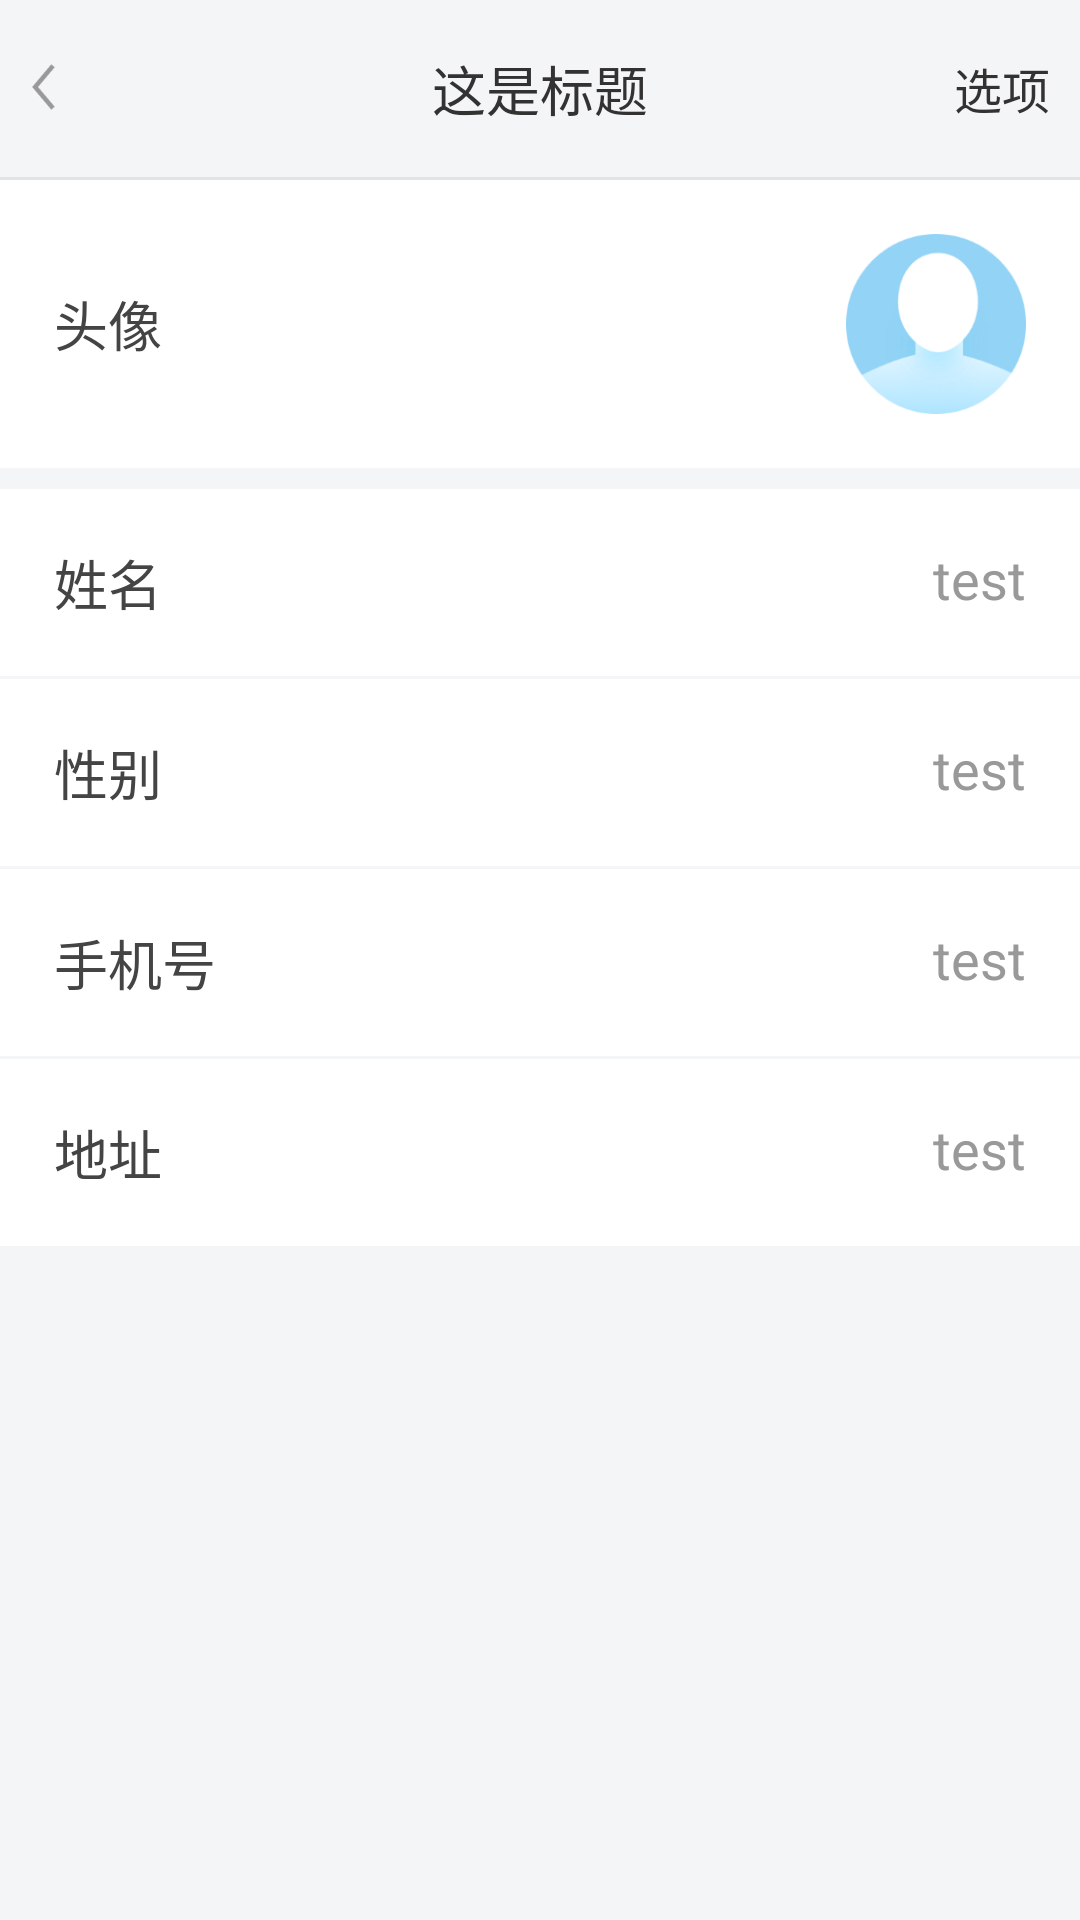

Point at icon controls on the screen. Image size 1080px x 1920px, points as point (x, y).
back: point (43, 87)
head portrait: point (936, 324)
